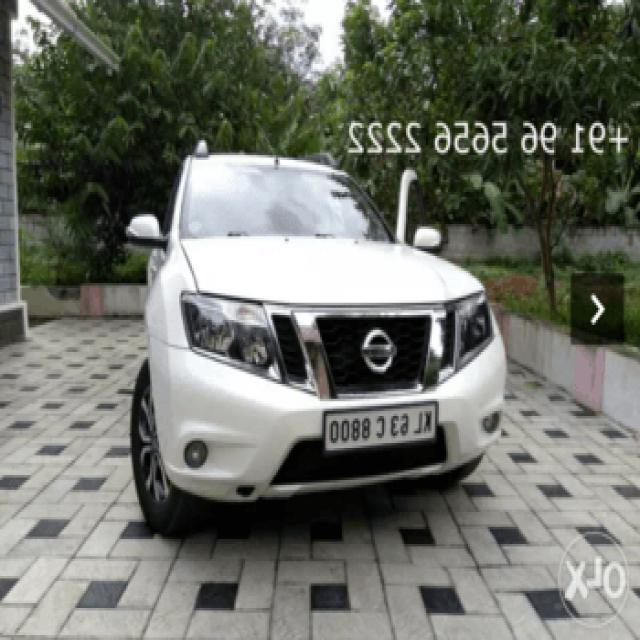number-plate: (319, 392, 443, 458)
